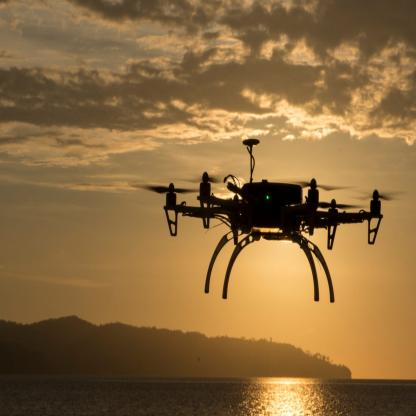drone: (139, 151, 396, 297)
